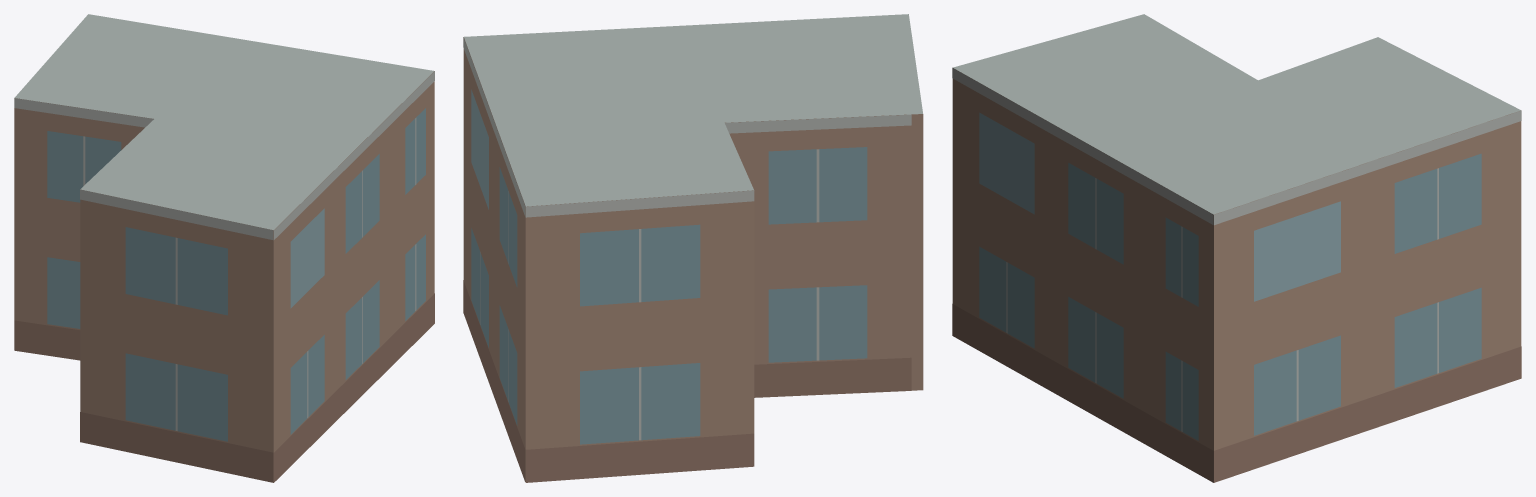
File: survey-upis-32906661.glb
The picture shows the model from 3 angles, left to right: view 1: azimuth 30°, elevation 25°; view 2: azimuth 150°, elevation 25°; view 3: azimuth 270°, elevation 25°; orthographic projection. The views are drawn at different scales.
Visible parts, largest first — view 1: survey-upis-32906661.tmp; view 2: survey-upis-32906661.tmp; view 3: survey-upis-32906661.tmp.
Boxes of the visible parts, box(x1,y1,x2,y2) form: survey-upis-32906661.tmp: box(14, 14, 434, 482); survey-upis-32906661.tmp: box(463, 14, 923, 482); survey-upis-32906661.tmp: box(952, 14, 1521, 482).
Bounding box in the file's own units: 9.8 × 6.1 × 11.73.
